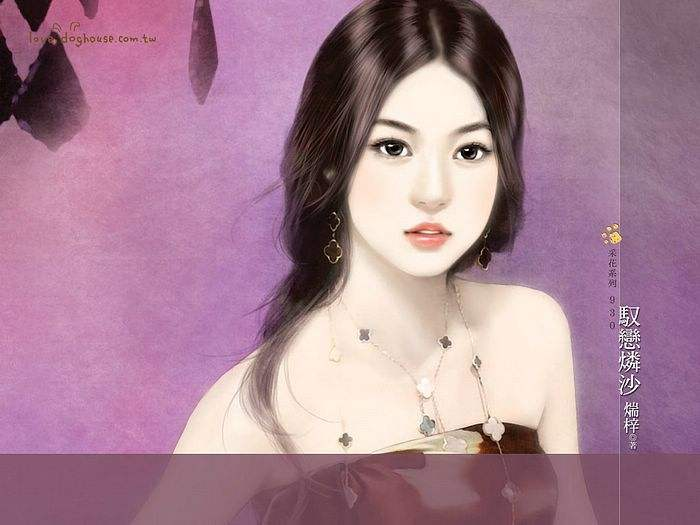person: (232, 10, 606, 451)
